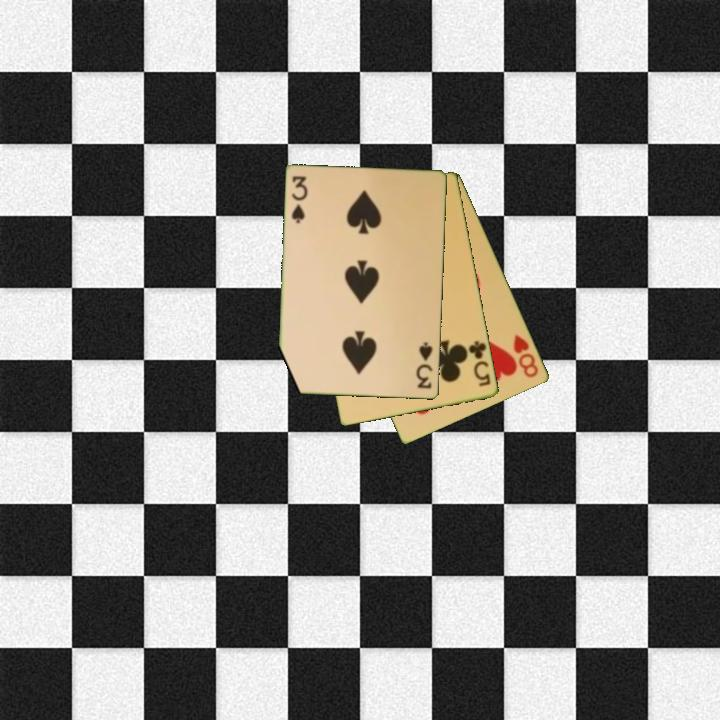3s: (288, 173, 311, 227), (413, 339, 436, 392)
5c: (465, 337, 494, 390)
8h: (510, 331, 542, 381)
